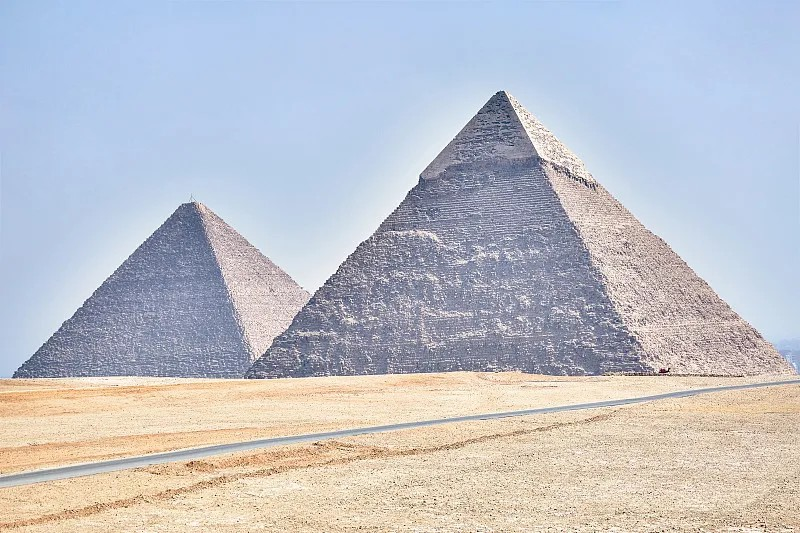Pyramid: (245, 93, 799, 378), (12, 199, 312, 377)
